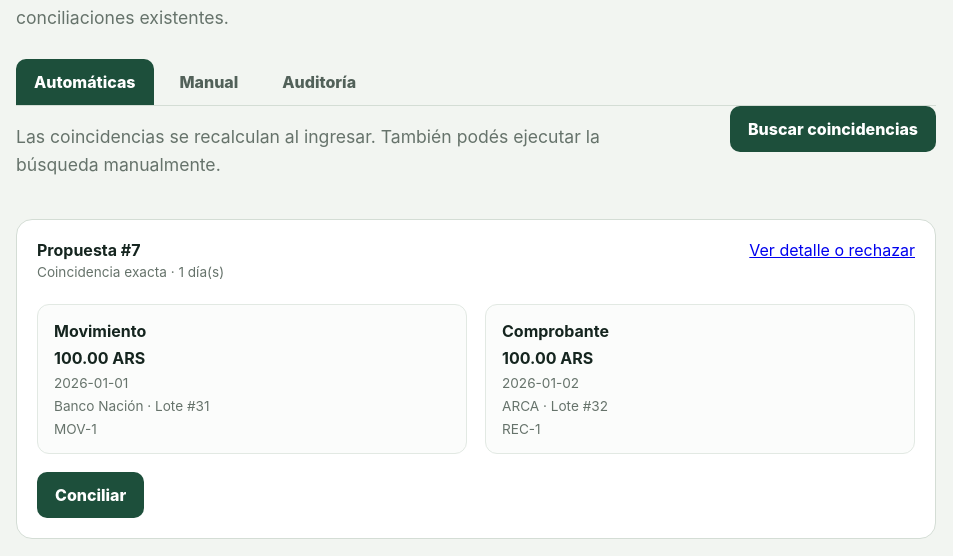
it: proposal workspace › refreshes stale automatic proposals after a conflict
The image size is (953, 556).
(page scrolled)
Click the button "Conciliar".
click(91, 495)  # box [37,472,144,518]
(page scrolled)
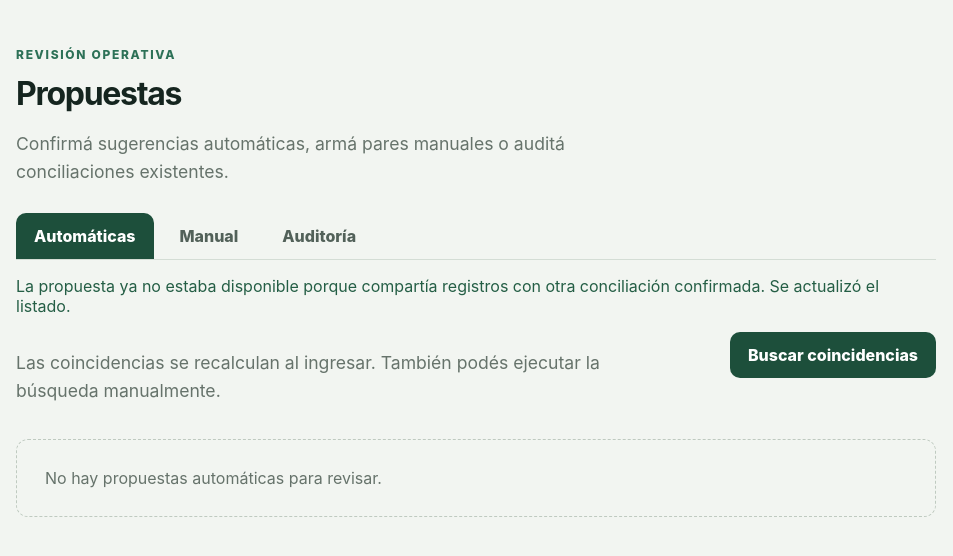
expect the text "La propuesta ya no estaba disponible" is shown: met, box [16,276,879,316]
expect the text "Propuesta #7" is gone: met
expect the text "No hay propuestas automáticas para revisar." is shown: met, box [16,439,936,517]
